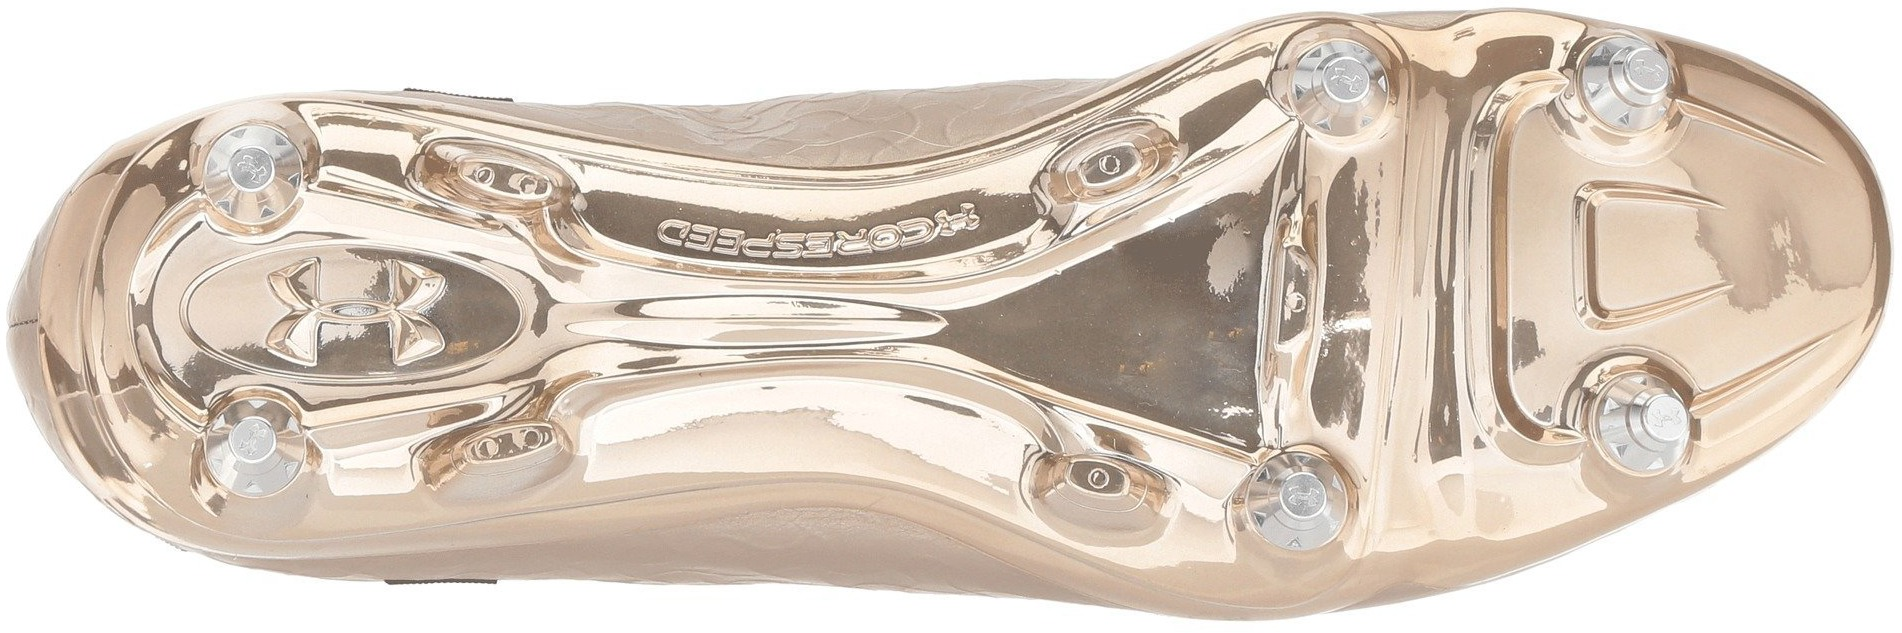chevron: (271, 226, 444, 386)
circle: (1601, 32, 1685, 118), (206, 131, 294, 213), (1265, 455, 1346, 537), (1624, 381, 1703, 461), (1306, 42, 1386, 116), (222, 410, 287, 472)
other: (1097, 251, 1264, 409)
quad: (448, 388, 579, 513), (443, 129, 566, 246), (1057, 434, 1146, 517)
